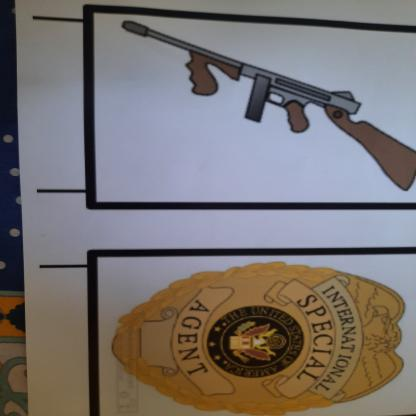Bootlegger: (112, 13, 416, 202)
G-man: (101, 254, 416, 413)
